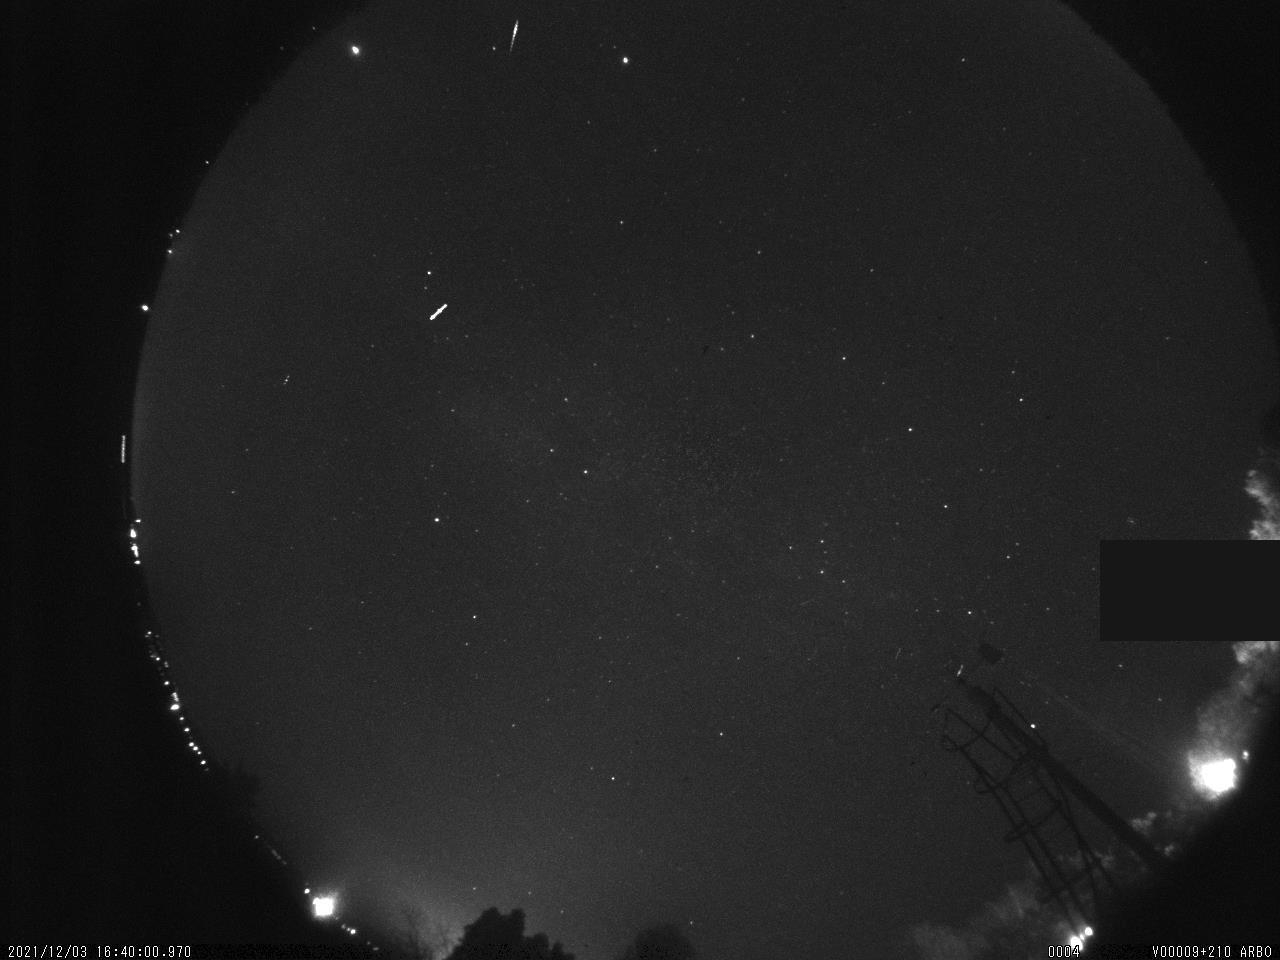meteor: (507, 19, 523, 50)
